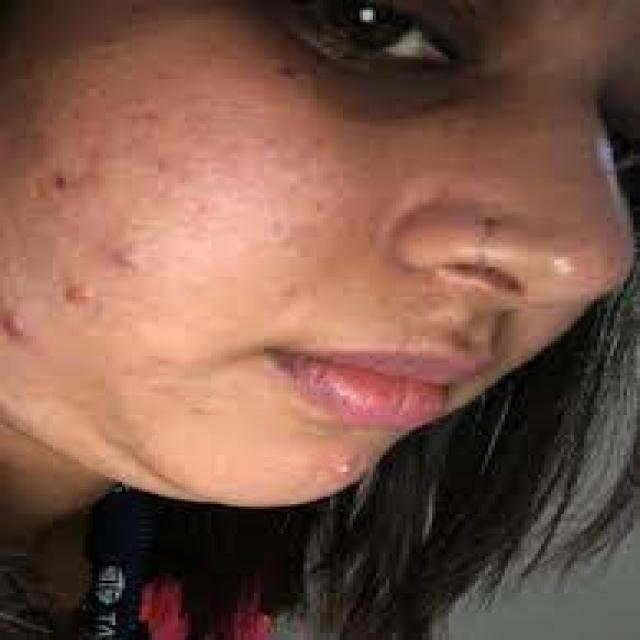Rosacea: (0, 120, 332, 334)
